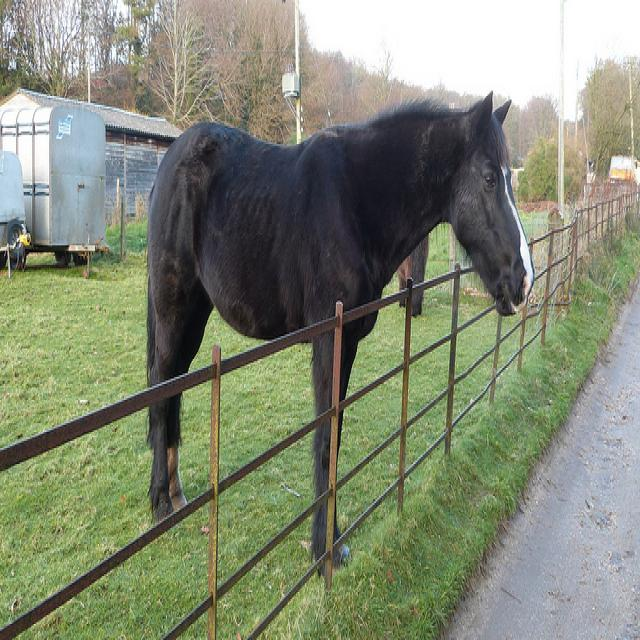Vehicle: (0, 94, 108, 270), (0, 153, 26, 259)
